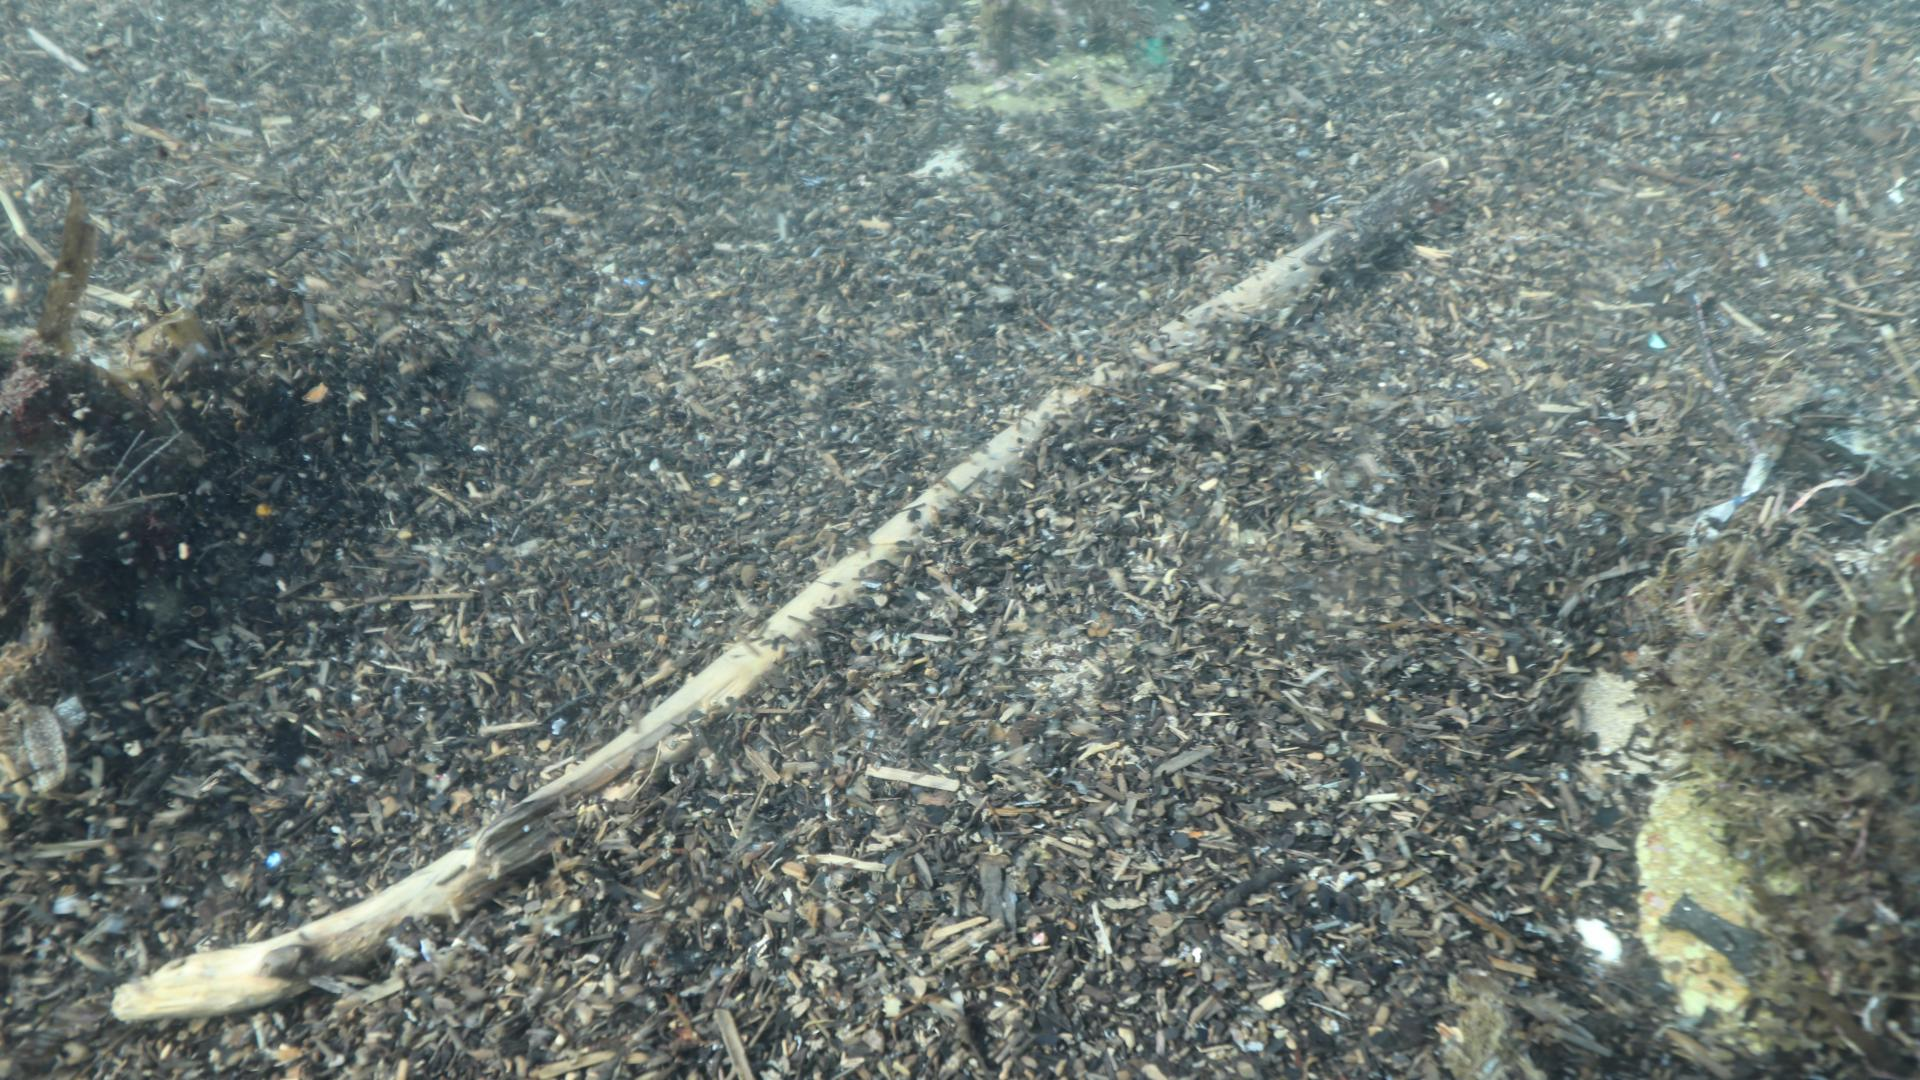wood: (111, 156, 1451, 1021)
